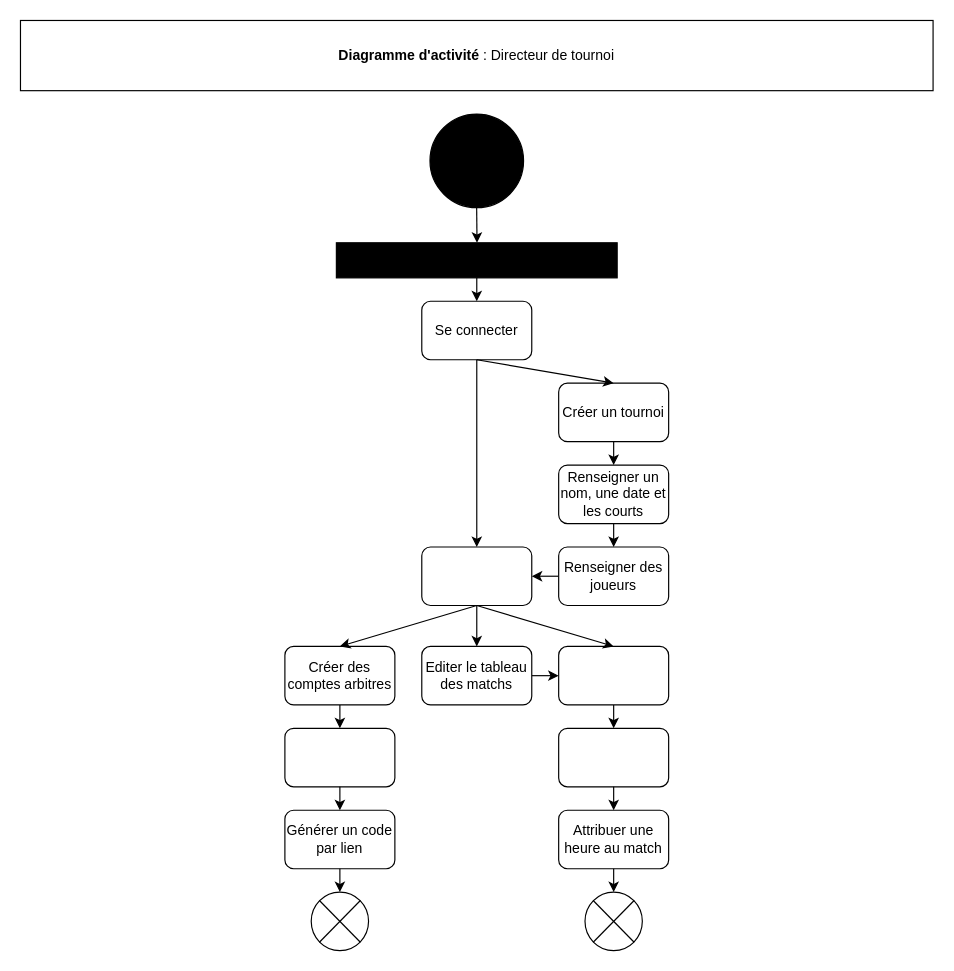
Some shapes in this 954 by 971 pixel diagram are drawn without their labels. The shapes that lost their labels are listed below. From the top down, each one's centre as x and y in pixels, then its label:
At point (476, 575): "Consulter le tableau de bord du tournoi".
At point (613, 675): "Editer l'ordre de jeux".
At point (339, 757): "Créer un lien par court".
At point (613, 757): "Attribuer un match à un court".
